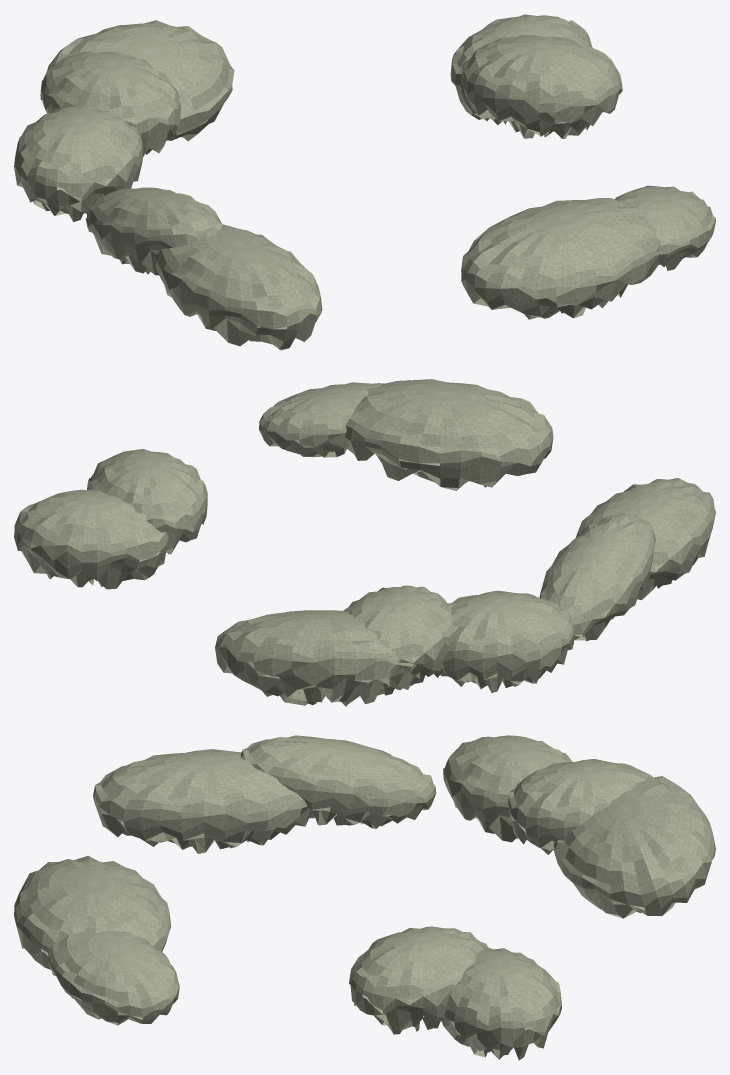
Rendered from SM_LDFest_22_02.fbx.
3 renders of one model, top to bottom at view 1: azimuth 30°, elevation 25°; view 2: azimuth 150°, elevation 25°; view 3: azimuth 270°, elevation 25°, orthographic. The views are drawn at different scales.
Visible parts, largest first — view 1: SM_LDFest_22_02; view 2: SM_LDFest_22_02; view 3: SM_LDFest_22_02.
Boxes of the visible parts, left/top/right/bottom form: SM_LDFest_22_02: left=14, top=14, right=715, bottom=350; SM_LDFest_22_02: left=14, top=379, right=715, bottom=706; SM_LDFest_22_02: left=14, top=735, right=715, bottom=1060.
Bounding box in the file's own units: 5323 × 1009 × 5794.
